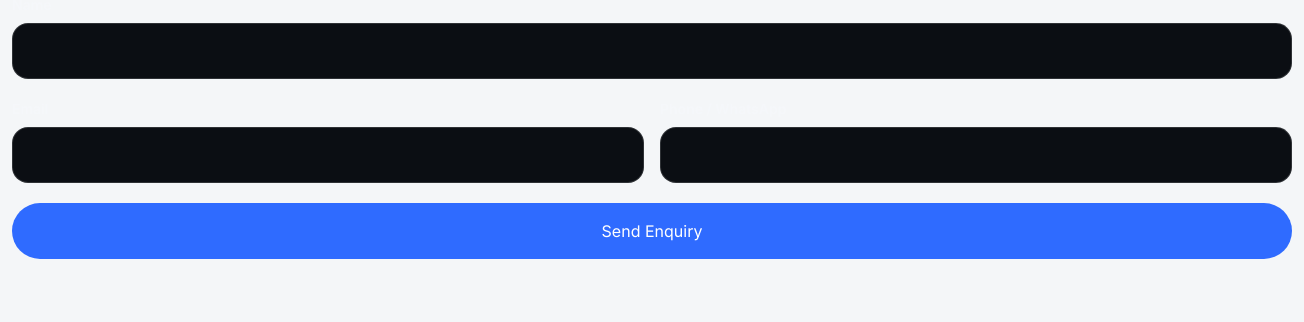
Scenario: LeadForm › locks while pending and ignores a duplicate click
This screenshot has width=1304, height=322.
Step 1. Type "Asha Mehta" into the field labelled "Name" → (652, 51), box x1=12 y1=23 x2=1292 y2=79
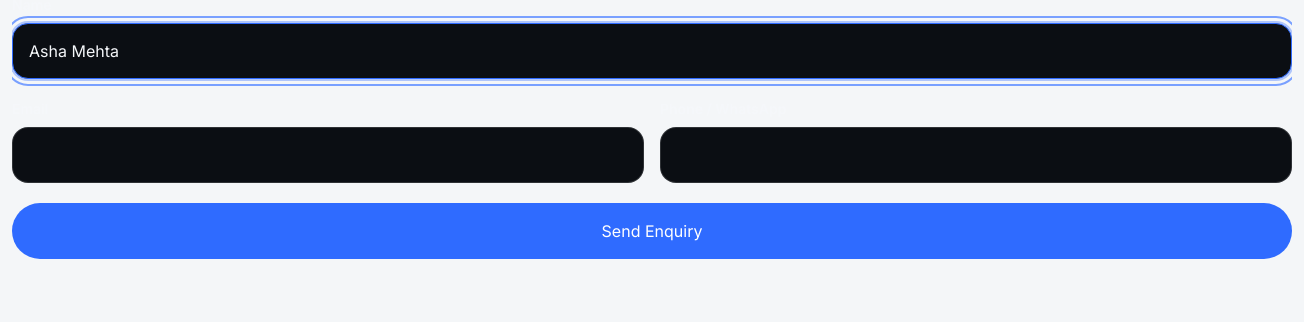
Step 2. Type "asha@example.com" into the field labelled "Email" → (328, 155), box x1=12 y1=127 x2=644 y2=183
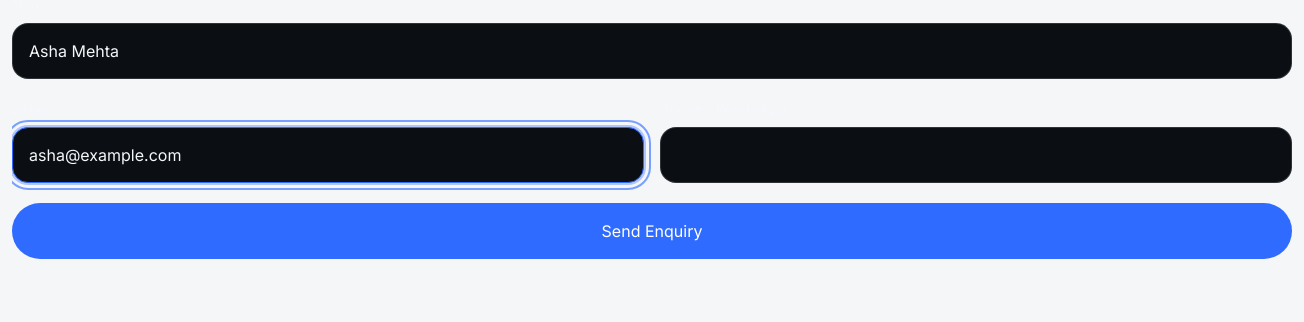
Step 3. Type "9876543210" into the field labelled "Phone / WhatsApp" → (976, 155), box x1=660 y1=127 x2=1292 y2=183
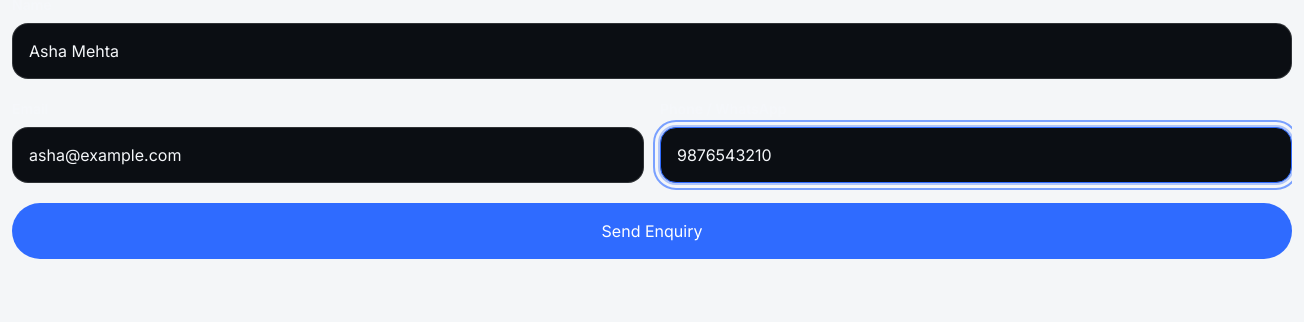
Step 4. Click the button "Send Enquiry" → (652, 231), box x1=12 y1=203 x2=1292 y2=259
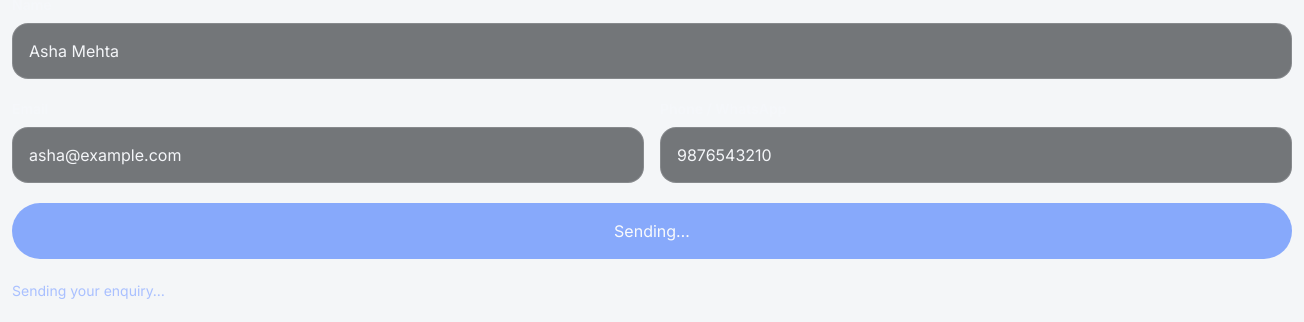
Expected: the button named "Send Enquiry" is disabled
Expected: the text "Sending your enquiry…" is shown, x1=12 y1=282 x2=165 y2=299
Step 5. Click the button named "Send Enquiry" → (652, 231), box x1=12 y1=203 x2=1292 y2=259
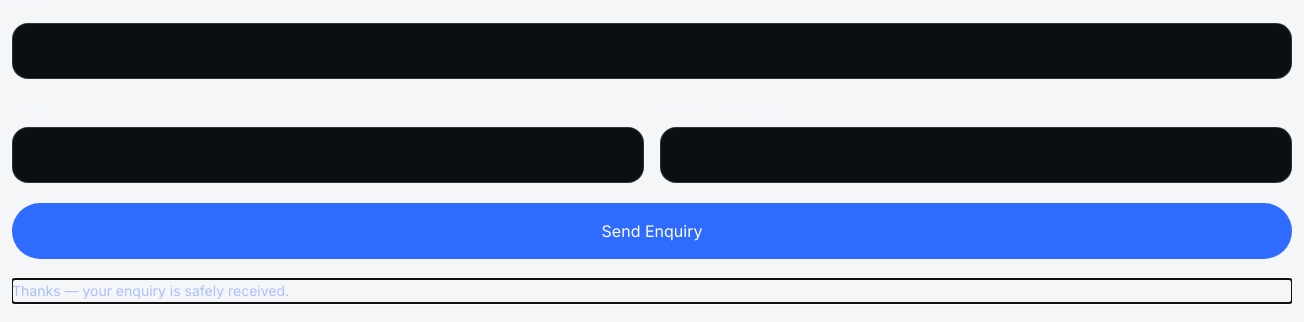
Expected: the text "Thanks — your enquiry is safely received." is shown, x1=12 y1=282 x2=289 y2=299
